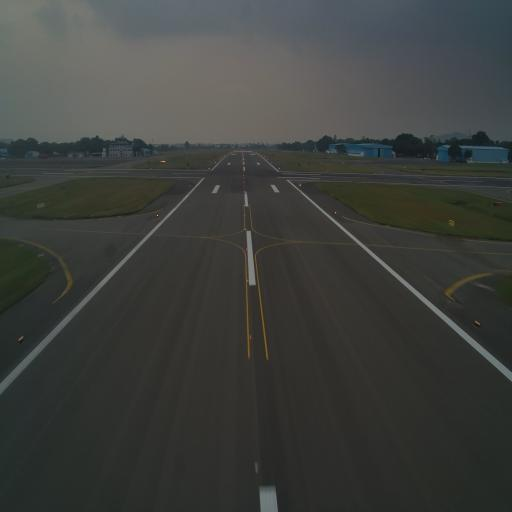on: (17, 329, 26, 347), (252, 461, 261, 475), (474, 316, 480, 330), (247, 329, 252, 343), (247, 276, 249, 284)
